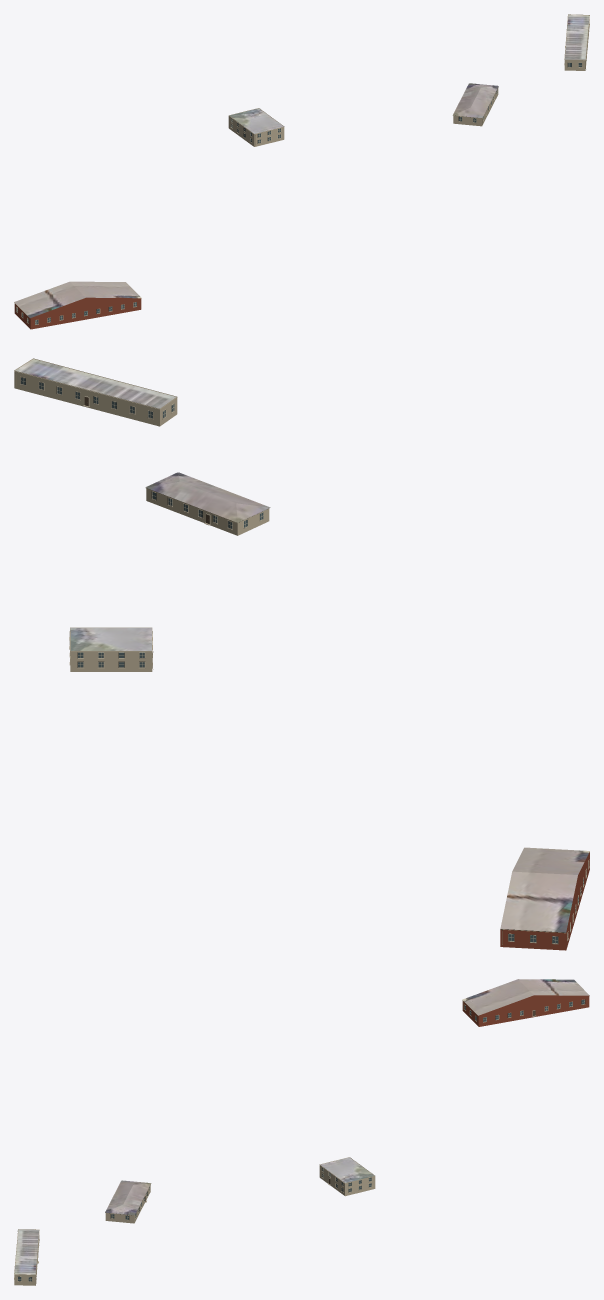
The picture shows the model from 3 angles, top to bottom: view 1: azimuth 90°, elevation 25°; view 2: azimuth 150°, elevation 25°; view 3: azimuth 270°, elevation 25°; orthographic projection. The views are drawn at different scales.
Visible parts, largest first — view 1: -8_1_271022211_0, -8_1_271269906_12; view 2: -8_1_271022211_0, -8_1_271269906_12; view 3: -8_1_271022211_0, -8_1_271269906_12.
Boxes of the visible parts, bbox=[...] form: -8_1_271022211_0: bbox=[14, 14, 589, 329]; -8_1_271269906_12: bbox=[228, 23, 589, 146]; -8_1_271022211_0: bbox=[14, 358, 589, 950]; -8_1_271269906_12: bbox=[14, 371, 269, 671]; -8_1_271022211_0: bbox=[14, 979, 589, 1283]; -8_1_271269906_12: bbox=[14, 1165, 375, 1285].
Bounding box in the file's own units: 256 × 8.73 × 208.
11 materials, 1 textured.
